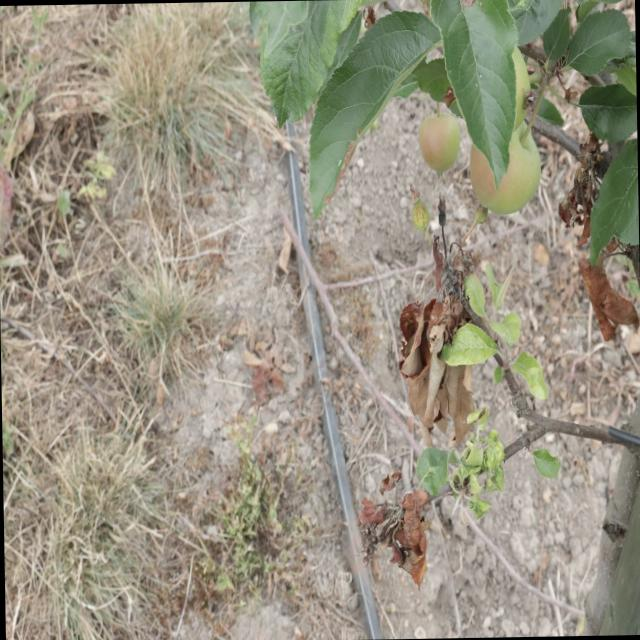-FireBlight-: (389, 241, 481, 442), (568, 134, 640, 333), (359, 476, 441, 585)
